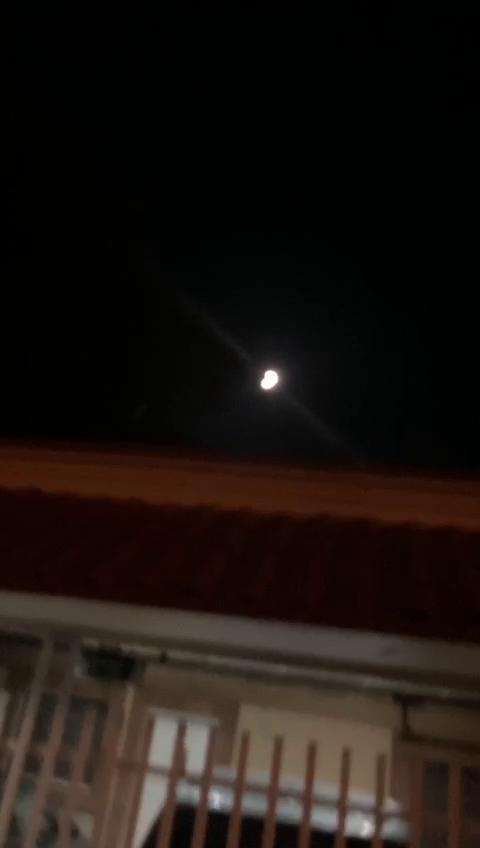moon: (258, 360, 296, 400)
